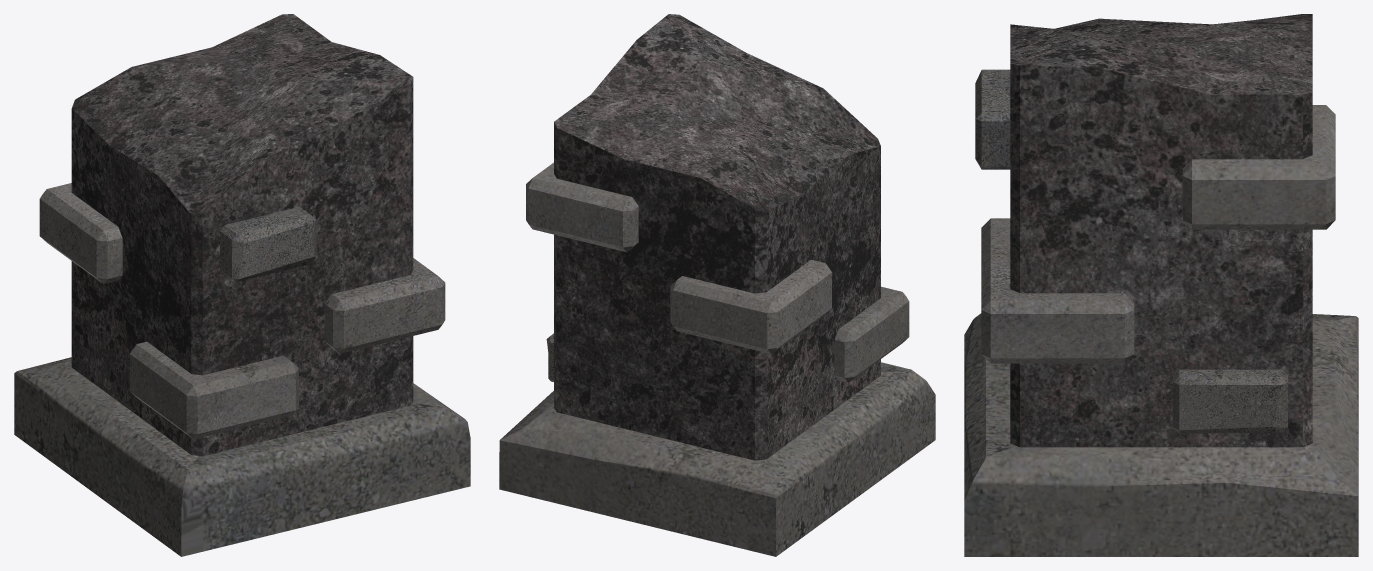
Rendered from Pillar_crack2.fbx.
The picture shows the model from 3 angles, left to right: view 1: azimuth 30°, elevation 25°; view 2: azimuth 150°, elevation 25°; view 3: azimuth 270°, elevation 25°; orthographic projection. The views are drawn at different scales.
Parts seen in each view (by area): view 1: Pillar_crack2; view 2: Pillar_crack2; view 3: Pillar_crack2.
Part boxes in pixels (bbox=[...]): Pillar_crack2: bbox=[14, 14, 470, 556]; Pillar_crack2: bbox=[499, 14, 935, 556]; Pillar_crack2: bbox=[964, 14, 1358, 556].
Bounding box in the file's own units: 1 × 1.32 × 1.
1 material, 1 textured.
